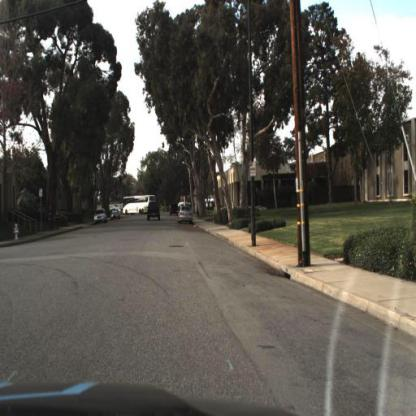car: (123, 196, 156, 218), (148, 201, 165, 224), (178, 207, 194, 225), (97, 208, 109, 224), (111, 207, 123, 223)
pedestrian: (55, 206, 63, 235), (48, 206, 55, 233)
truck: (122, 192, 158, 219)
